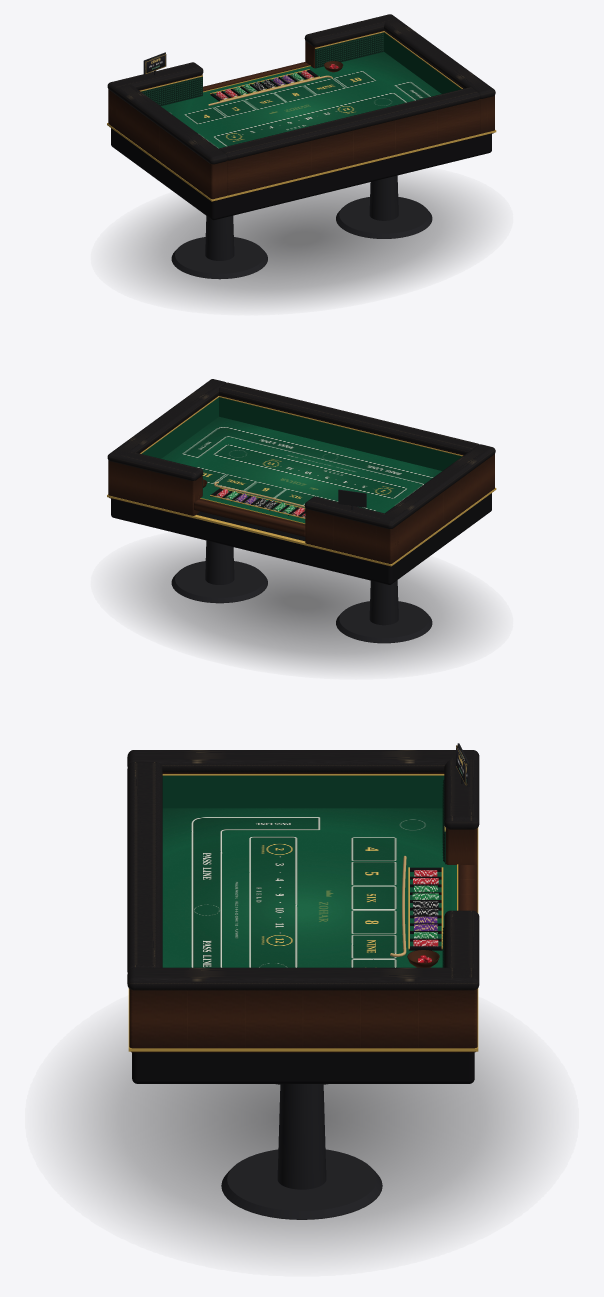
The model's file is craps_table.glb.
3 renders of one model, top to bottom at view 1: azimuth 30°, elevation 25°; view 2: azimuth 150°, elevation 25°; view 3: azimuth 270°, elevation 25°, orthographic. The views are drawn at different scales.
Parts seen in each view (by area): view 1: FloorShadow, Felt, WallNearWood, Apron, Foot (×2), WallLeftWood, WallNearRail, Leg (×2), PyramidRubber, WallLeftRail, WallRightRail, LinerR (+5 smaller); view 2: FloorShadow, Felt, Apron, Foot (×2), LinerNear, WallLeftWood, WallNearRail, WallFarLWood, WallFarRWood, Leg (×2), WallLeftRail, WallRightRail (+7 smaller); view 3: FloorShadow, Felt, WallRightWood, Apron, LinerL, WallRightRail, WallNearRail, Foot, WallLeftRail, Leg, WallFarRRail, WallFarLRail (+4 smaller).
Part boxes in pixels (x1,y1,x2,y2): FloorShadow: (123,176,480,303); Felt: (161,52,441,148); WallNearWood: (227,99,479,198); Apron: (111,128,491,220); Foot (×2): (171,197,432,279); WallLeftWood: (108,89,227,201); WallNearRail: (219,87,480,160); Leg (×2): (205,175,398,260); PyramidRubber: (141,32,383,105); WallLeftRail: (107,79,227,164); WallRightRail: (379,14,495,98); LinerR: (384,32,461,93); FloorShadow: (123,541,480,667); Felt: (161,416,441,522); Apron: (111,493,491,584); Foot (×2): (171,561,432,643); LinerNear: (219,397,461,470); WallLeftWood: (376,454,494,566); WallNearRail: (219,382,478,454); WallFarLWood: (305,508,399,565); WallFarRWood: (108,460,202,518); Leg (×2): (205,540,398,625); WallLeftRail: (377,444,495,529); WallRightRail: (107,379,226,463); FloorShadow: (67,1028,536,1251); Felt: (162,808,451,967); WallRightWood: (129,989,477,1052); Apron: (132,1052,474,1083); LinerL: (162,775,444,808); WallRightRail: (127,967,479,990); WallNearRail: (127,762,162,972); Foot: (221,1149,382,1219); WallLeftRail: (127,750,479,772); Leg: (277,1084,326,1189); WallFarRRail: (444,910,479,989); WallFarLRail: (444,750,479,829).
Size of the model in its own units: 2.7 by 1.09 by 2.
41 materials, 31 textured.
